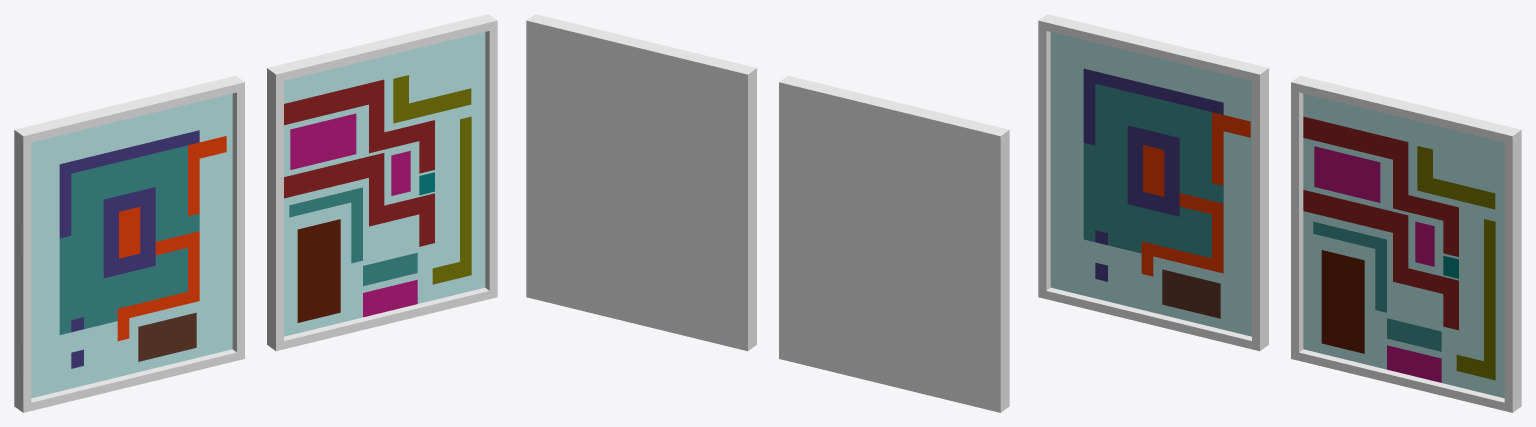
3 renders of one model, left to right at view 1: azimuth 30°, elevation 25°; view 2: azimuth 150°, elevation 25°; view 3: azimuth 330°, elevation 25°, orthographic.
Parts seen in each view (by area): view 1: Group_002, Group_001; view 2: Group_002, Group_001; view 3: Group_002, Group_001.
Boxes of the visible parts, left/top/right/bottom form: Group_002: left=14, top=75, right=244, bottom=412; Group_001: left=267, top=14, right=497, bottom=351; Group_002: left=779, top=75, right=1009, bottom=412; Group_001: left=526, top=14, right=756, bottom=351; Group_002: left=1038, top=14, right=1268, bottom=351; Group_001: left=1291, top=75, right=1521, bottom=412.
Size of the model in its own units: 1220 by 680 by 40.
